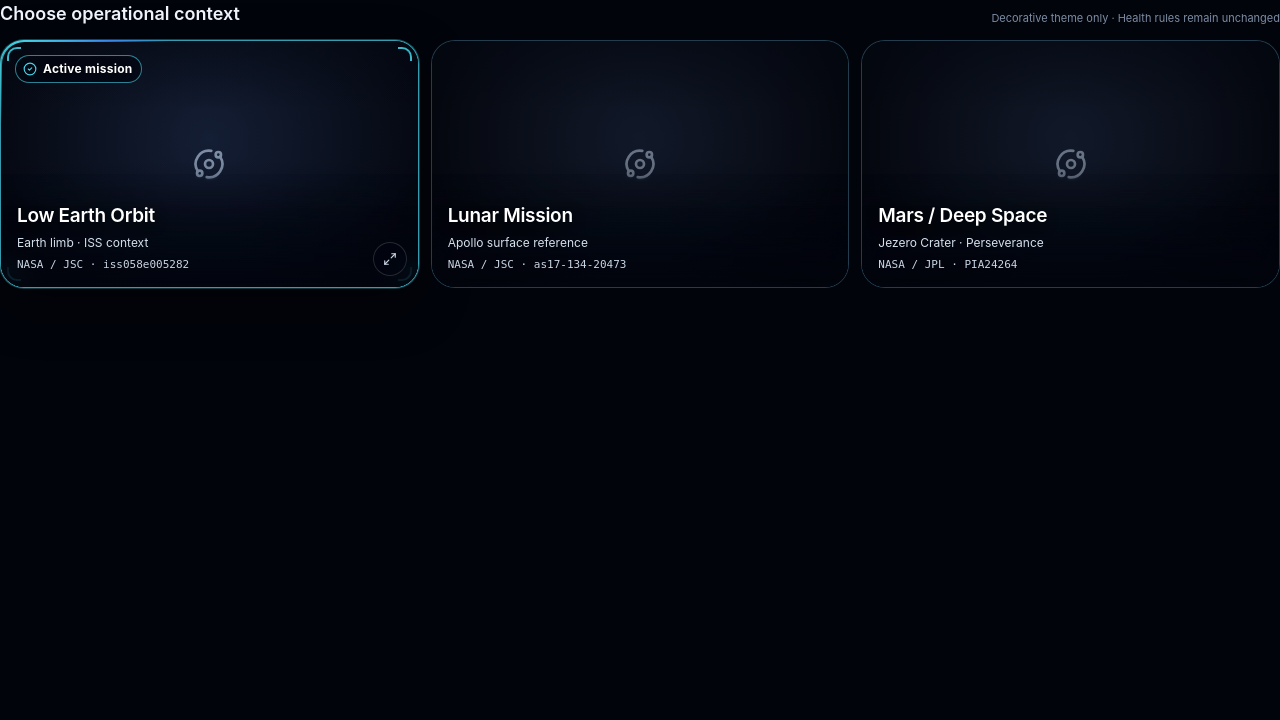
Scenario: MissionSelector › exposes NASA provenance in the expanded media view
The width and height of the screenshot is (1280, 720).
What coordinates should you click on to do the following:
click the button named "Expand Low Earth Orbit NASA media"
I would click on:
 (390, 259)
Its box is [373,242,407,276].
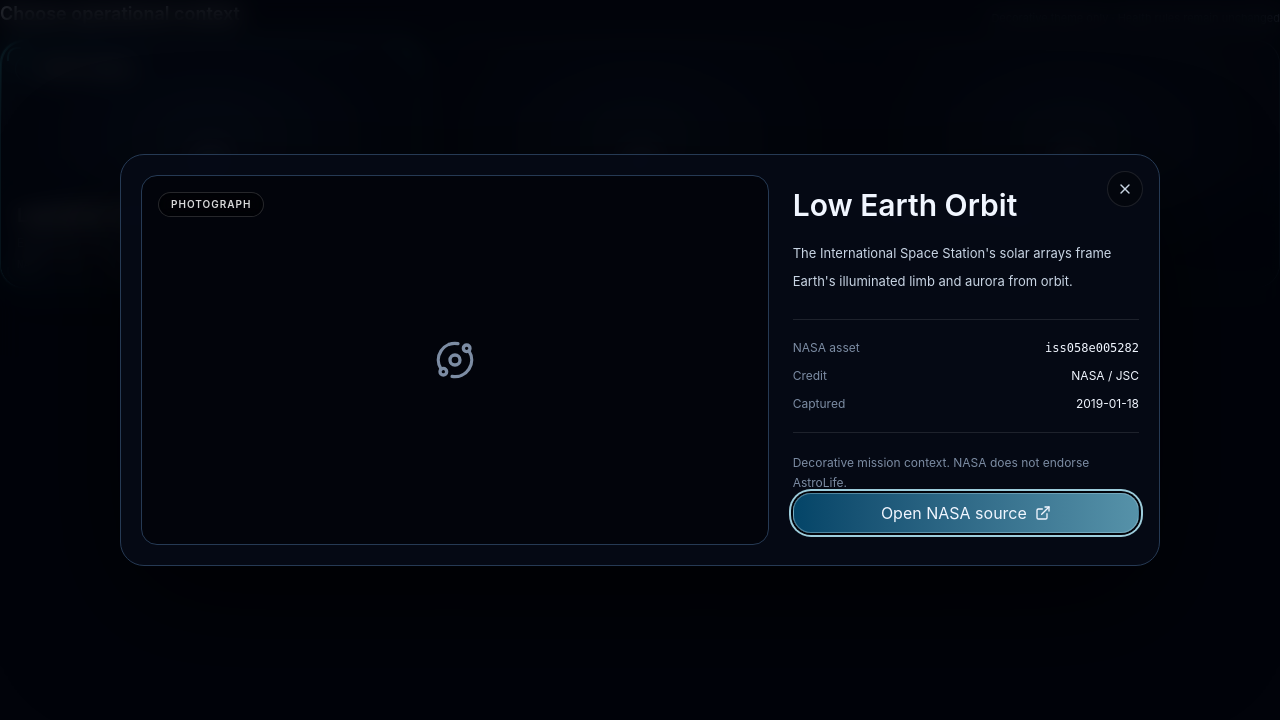
Check: the dialog is shown, box [120,154,1160,566]
Check: the text "iss058e005282" is shown, box [1045,340,1139,356]
Check: the text "NASA / JSC" is shown, box [1071,368,1139,384]
